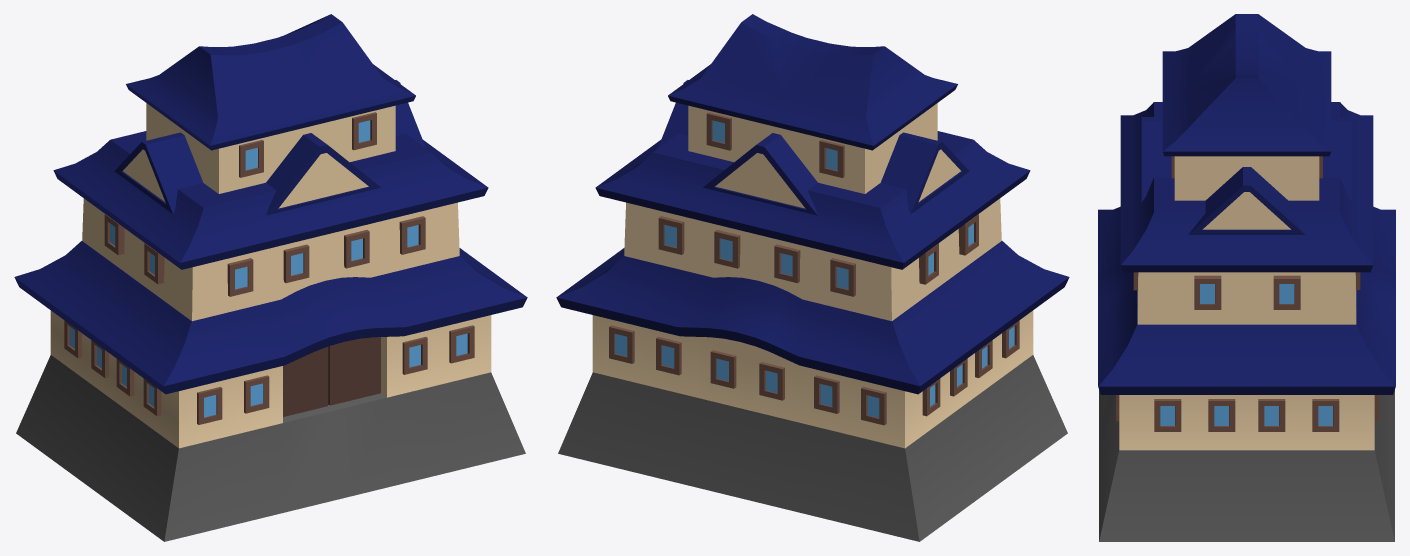
Rendered from japanese_castle.glb.
3 views of the same model, side by side, from view 1: azimuth 30°, elevation 25°; view 2: azimuth 150°, elevation 25°; view 3: azimuth 270°, elevation 25° (orthographic).
Parts seen in each view (by area): view 1: Cube.501; view 2: Cube.501; view 3: Cube.501.
Part boxes in pixels (bbox=[...]): Cube.501: bbox=[14, 14, 527, 541]; Cube.501: bbox=[556, 14, 1069, 541]; Cube.501: bbox=[1098, 14, 1395, 541].
Size of the model in its own units: 2.03 by 2.18 by 1.44.
1 material, 1 textured.
